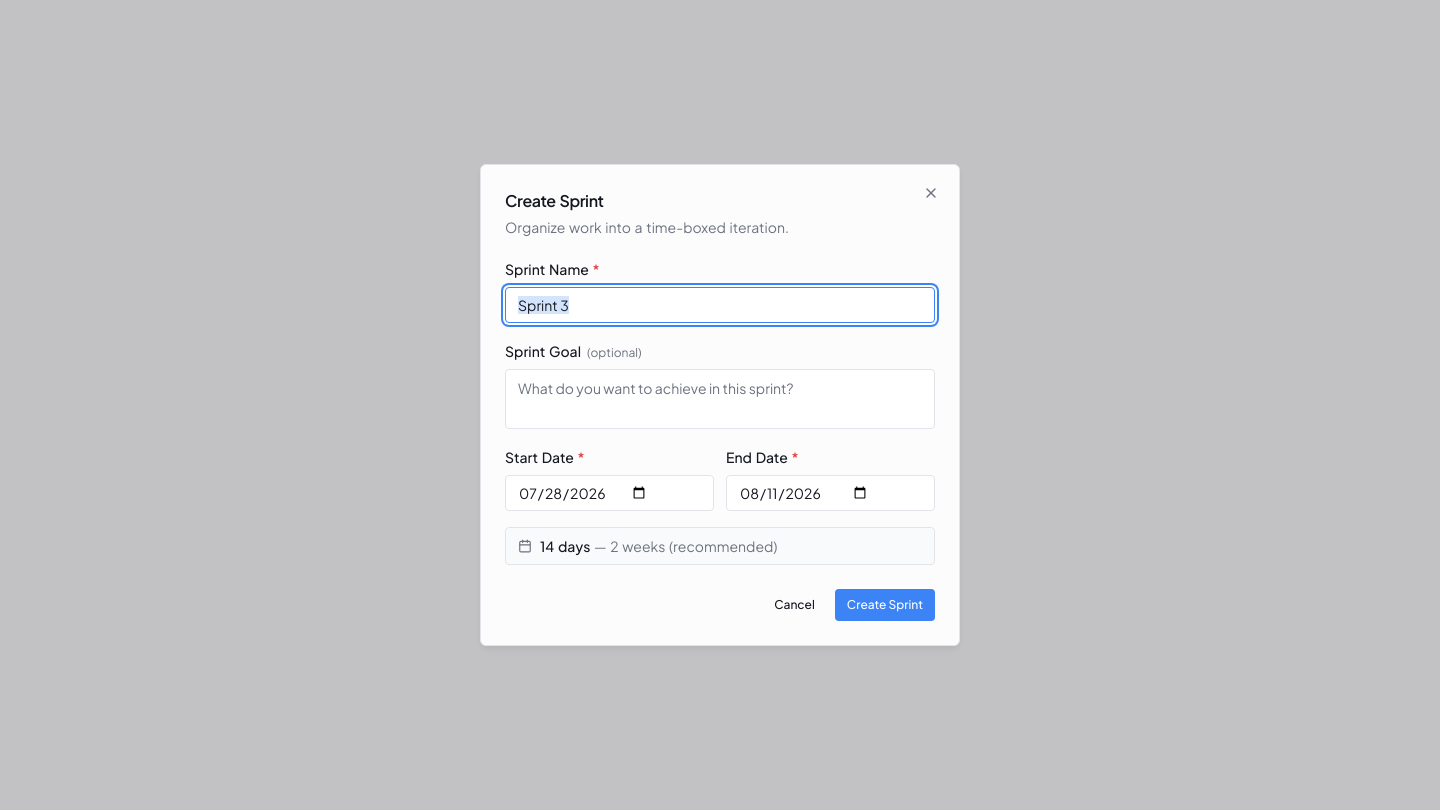
Test: CreateSprintModal › shows a validation error when name is empty
This screenshot has width=1440, height=810.
Clear the field labelled "Sprint Name *" at (720, 305), box [505,287,935,323]
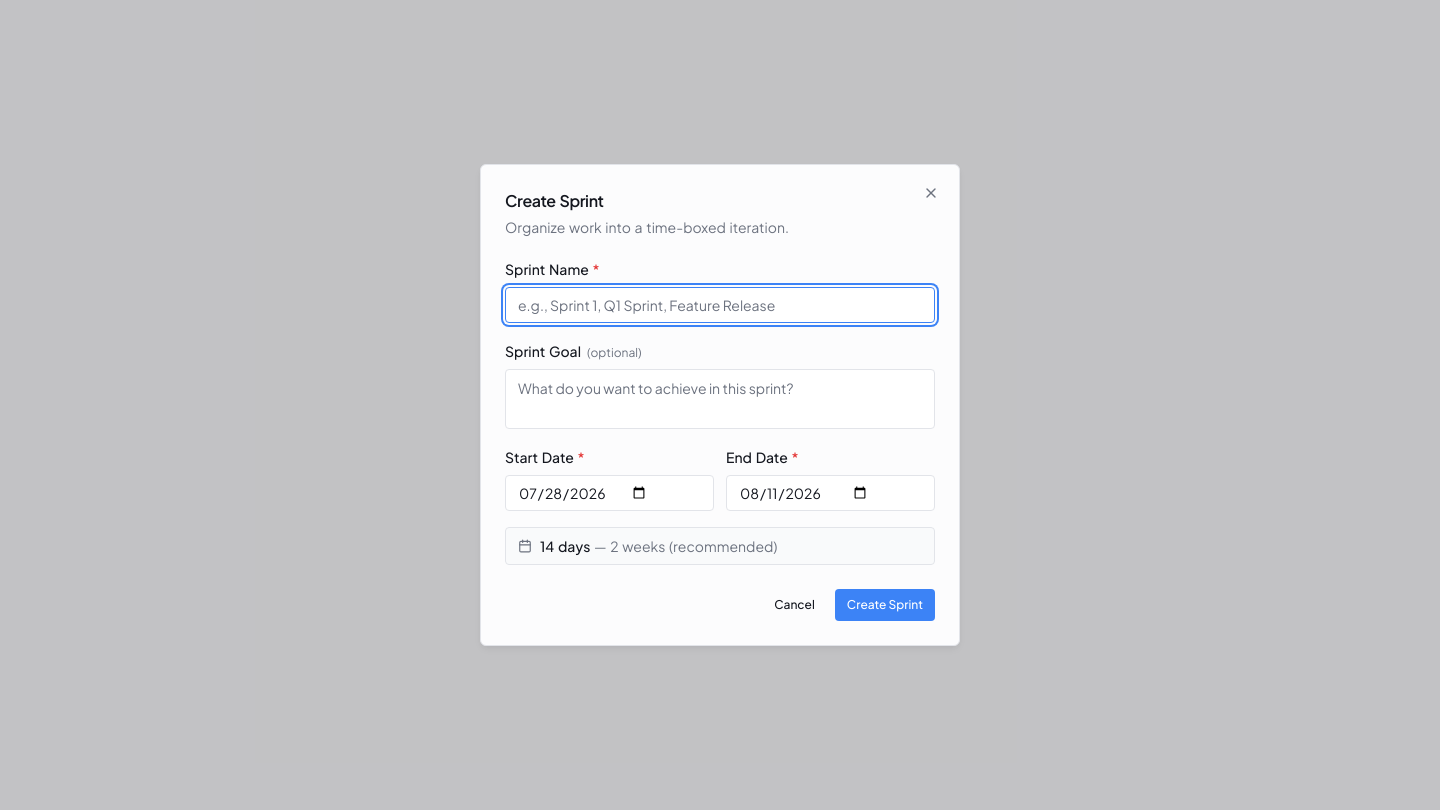
Click the button "Create Sprint" at (885, 605), box [835,589,935,621]
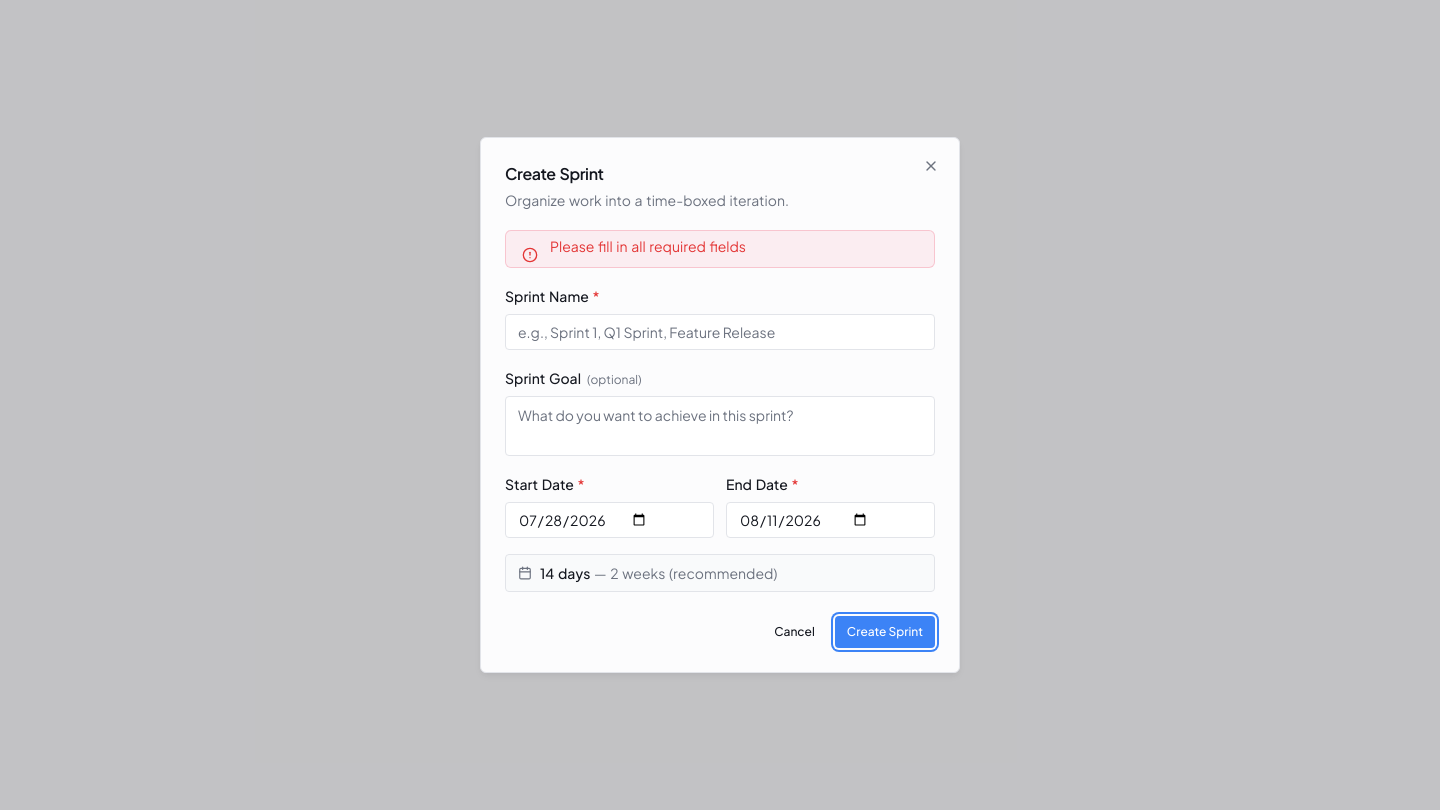
Expected: the text "Please fill in all required fields" is shown, [550,237,746,255]
